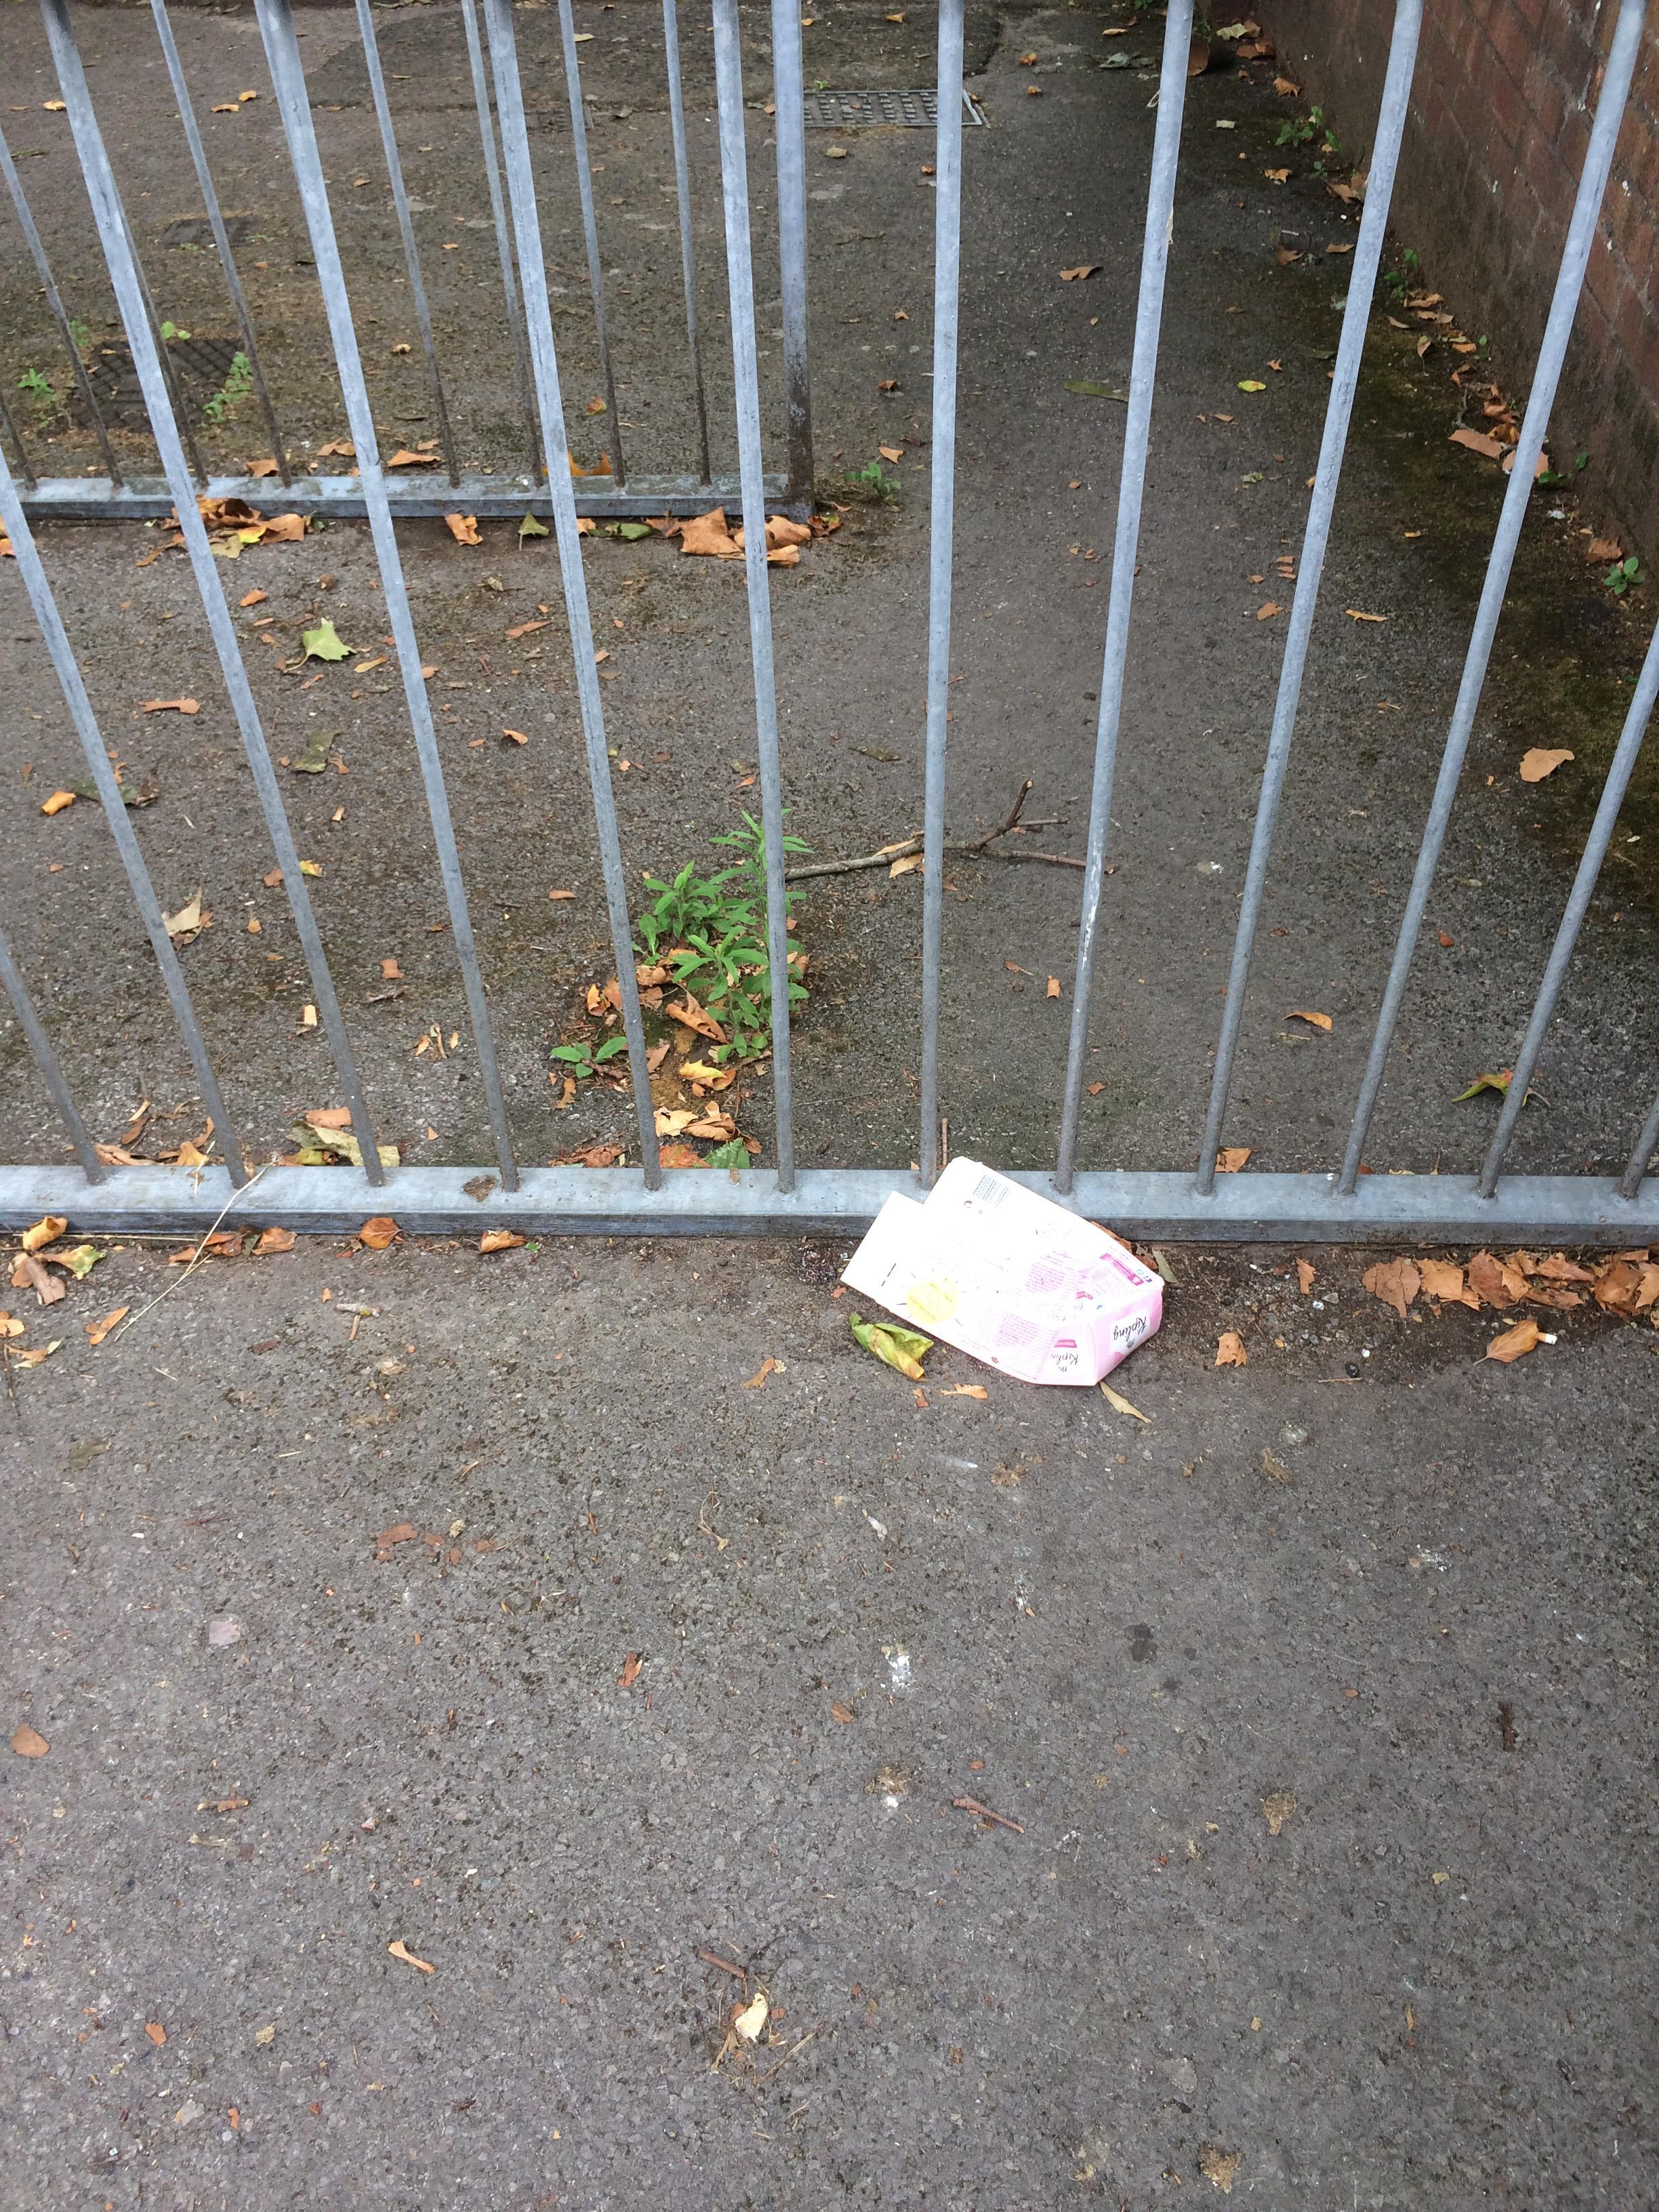Trash: (817, 1153, 1175, 1406)
